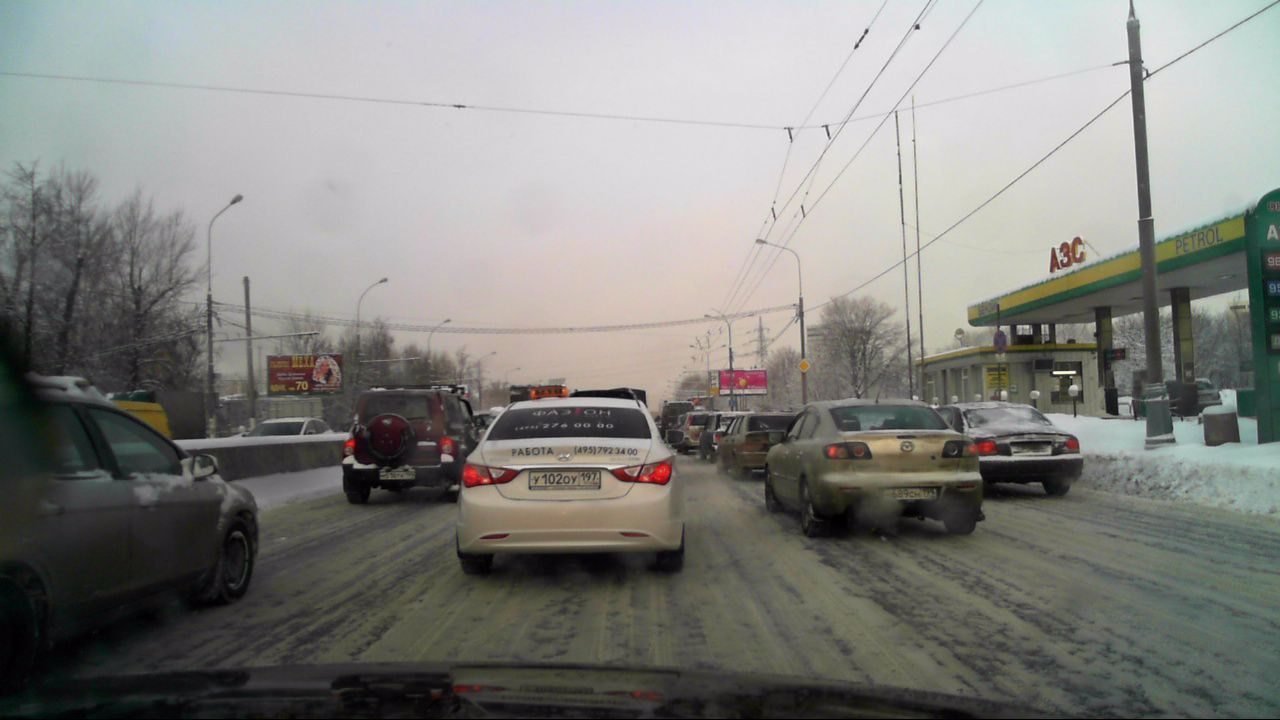No Parking: (991, 328, 1010, 355)
